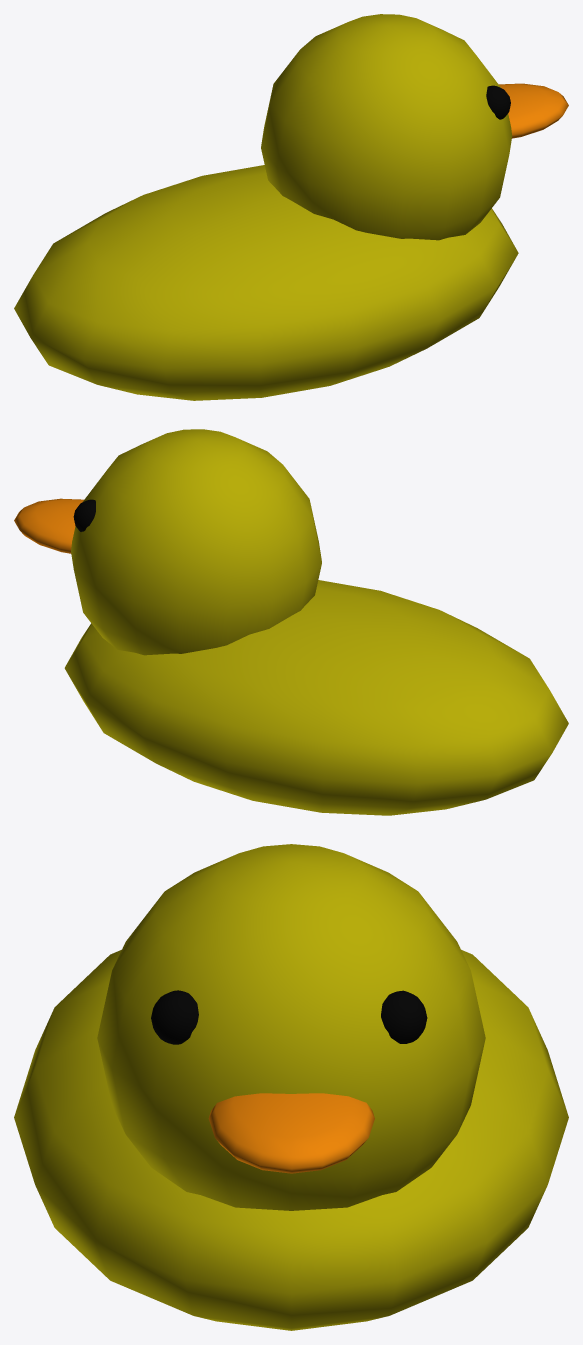
Rendered from duck.fbx.
3 renders of one model, top to bottom at view 1: azimuth 30°, elevation 25°; view 2: azimuth 150°, elevation 25°; view 3: azimuth 270°, elevation 25°, orthographic. The views are drawn at different scales.
Parts seen in each view (by area): view 1: Sphere.001; view 2: Sphere.001; view 3: Sphere.001.
Boxes of the visible parts, x1,y1,x2,y2 form: Sphere.001: (14,14,568,400); Sphere.001: (14,429,568,815); Sphere.001: (14,844,568,1330).
Size of the model in its own units: 339 by 187 by 200.
